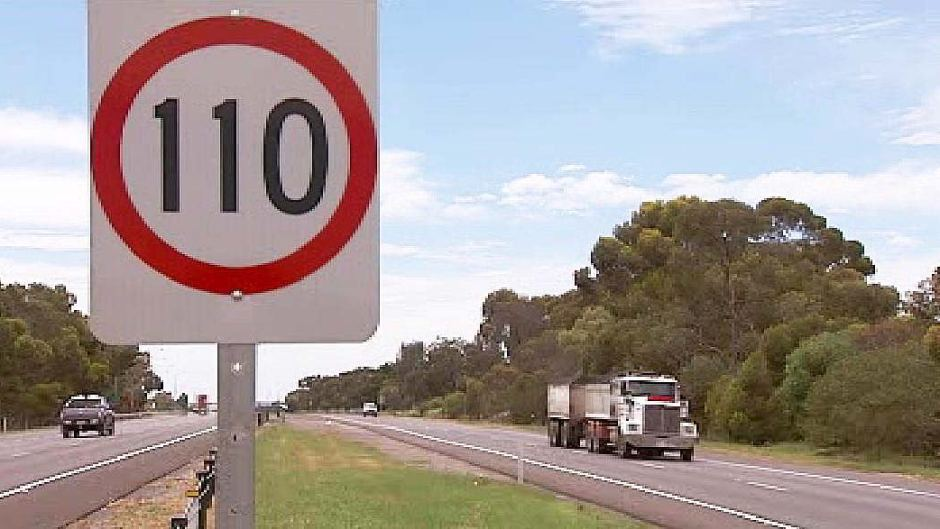Speed_limit_110km: (88, 16, 380, 297)
